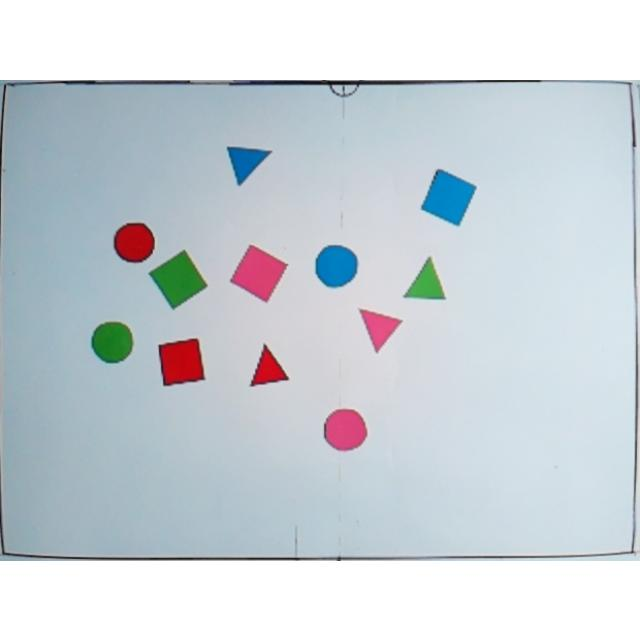blueCircle: (314, 242, 360, 288)
blueSquare: (418, 168, 478, 226)
blueTriangle: (225, 144, 273, 186)
greenCircle: (90, 318, 134, 364)
greenSquare: (149, 247, 209, 309)
greenTriangle: (401, 254, 449, 304)
pinkCircle: (322, 406, 370, 450)
pinkSquare: (229, 242, 289, 302)
pinkTriangle: (355, 305, 403, 355)
redCircle: (113, 220, 157, 262)
redSquare: (156, 336, 208, 386)
redTriangle: (248, 342, 292, 391)
